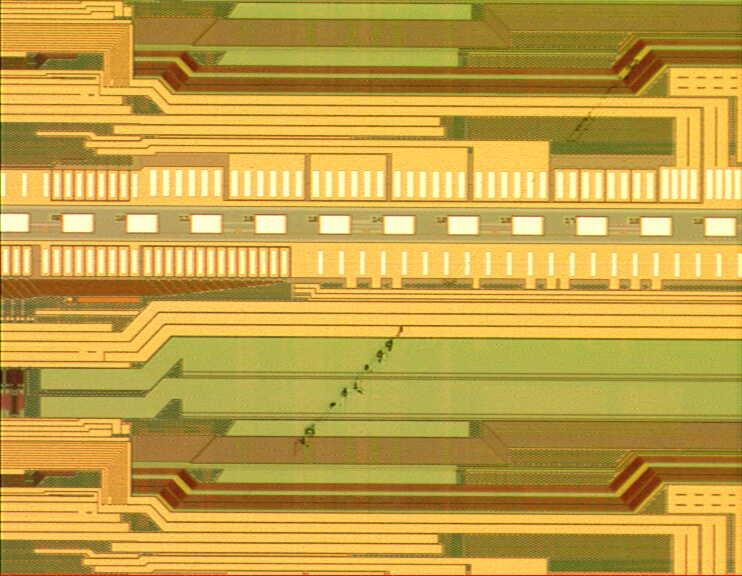SCRATCH: (275, 47, 655, 469)
